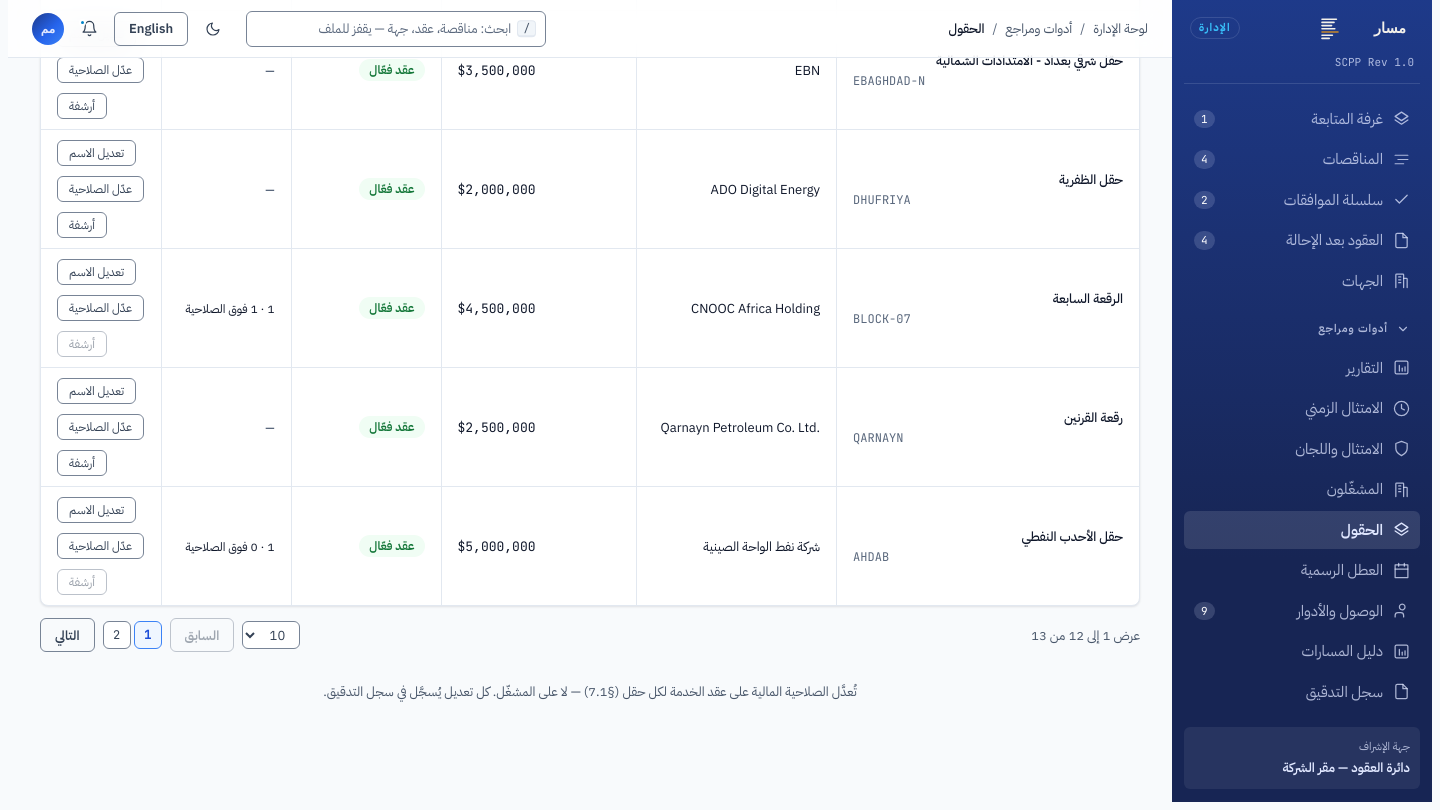
Scenario: #/admin/fields — the archive gate names its reason instead of greying out › opens the dialog on an idle field and refuses to commit until the reason reaches 20 chars
(page scrolled)
Click the 4th button "أرشفة" at (82, 463), box top-left (57, 450), bottom-right (107, 476)
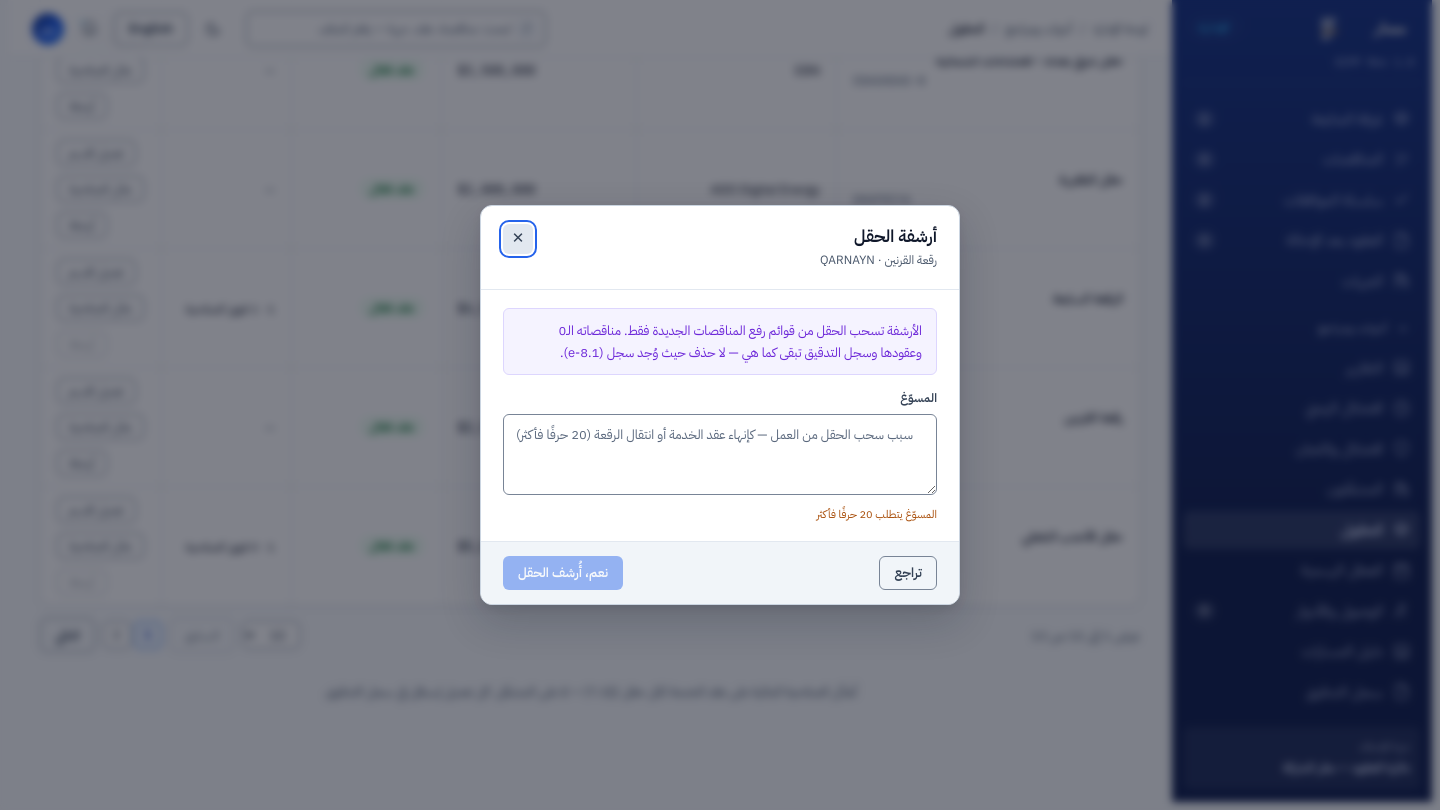
Expected: the button "نعم، أُرشف الحقل" is disabled, top-left (503, 556), bottom-right (623, 590)
Expected: the text "المسوّغ يتطلب 20 حرفًا فأكثر" is shown, top-left (816, 506), bottom-right (937, 523)
Expected: the button "تراجع" is shown, top-left (880, 556), bottom-right (937, 590)
Replace the text in the text box with "انتهى عقد خدمة الحقل ولم تعد الشركة تشغّله — سحب موثّق بكتاب 2026/311" at (720, 454), box top-left (503, 414), bottom-right (937, 495)
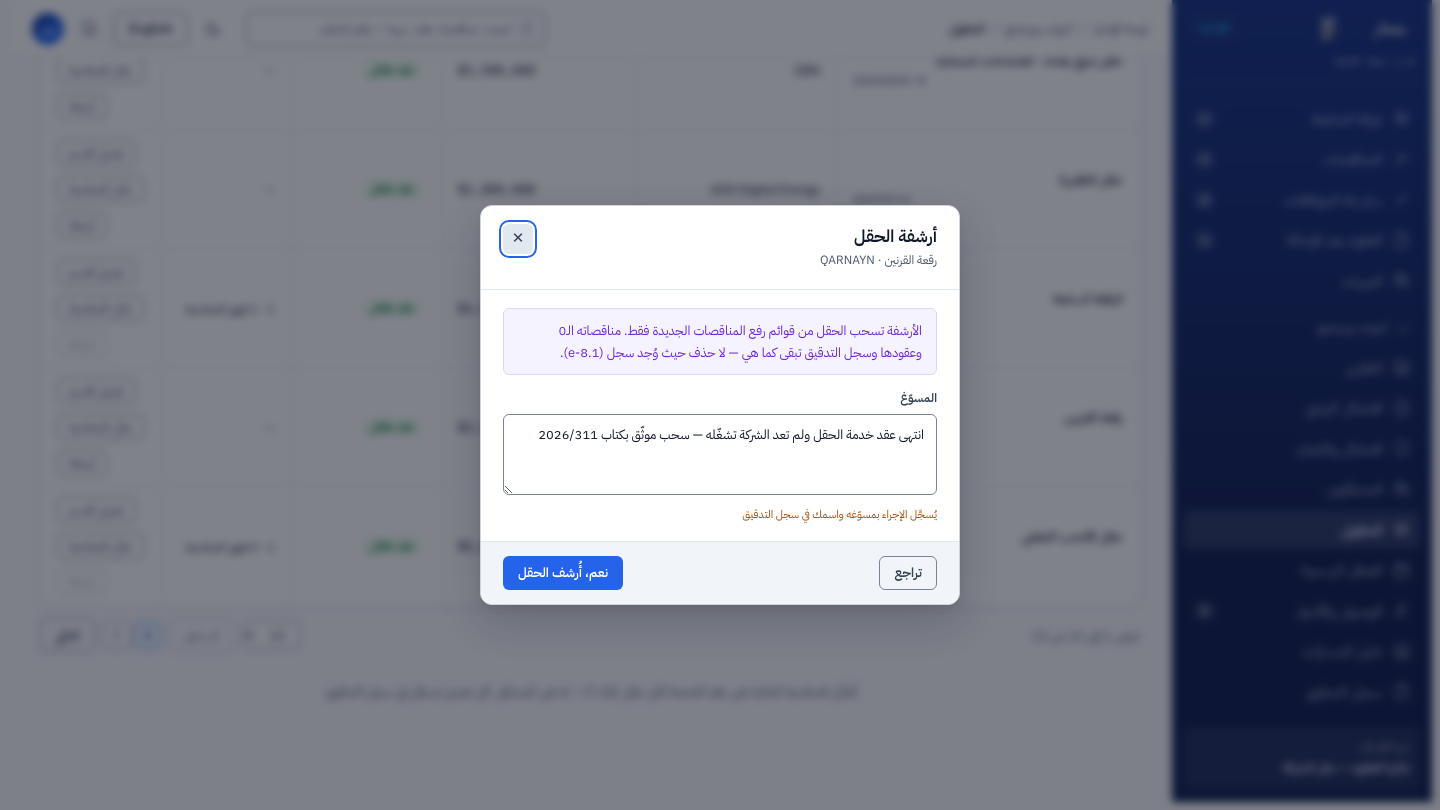
Expected: the button "نعم، أُرشف الحقل" is enabled, top-left (503, 556), bottom-right (623, 590)
